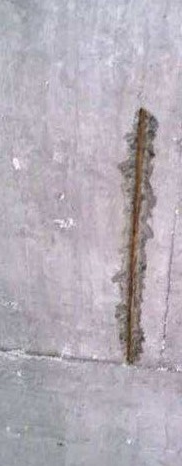Exposed reinforcement: (126, 108, 145, 360)
Spalling: (110, 107, 160, 365)
